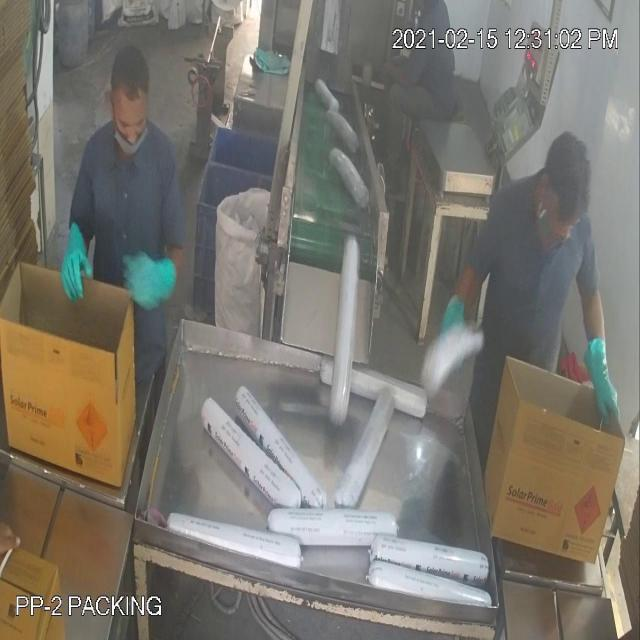Gloves: (54, 70, 600, 370)
